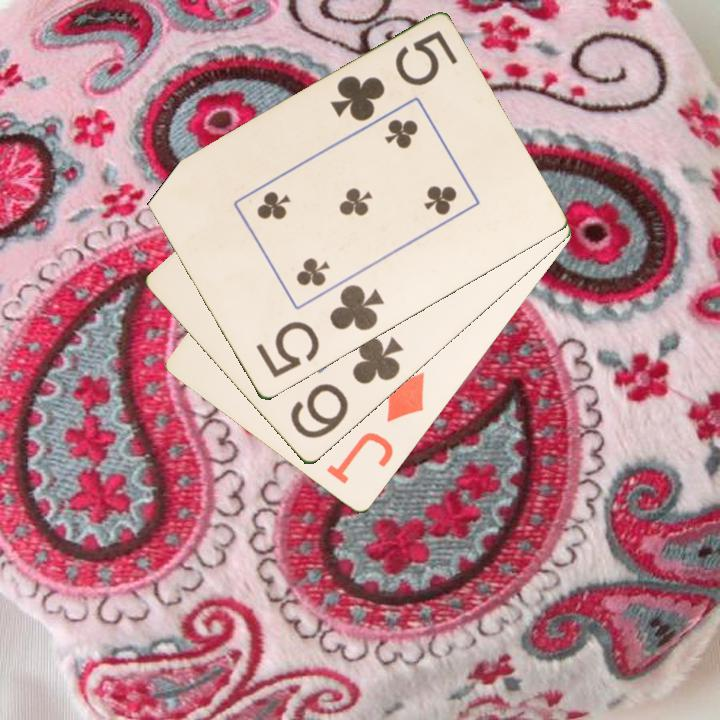5c: (252, 281, 387, 382), (327, 27, 461, 126)
6c: (286, 333, 407, 443)
Jd: (322, 368, 428, 488)
